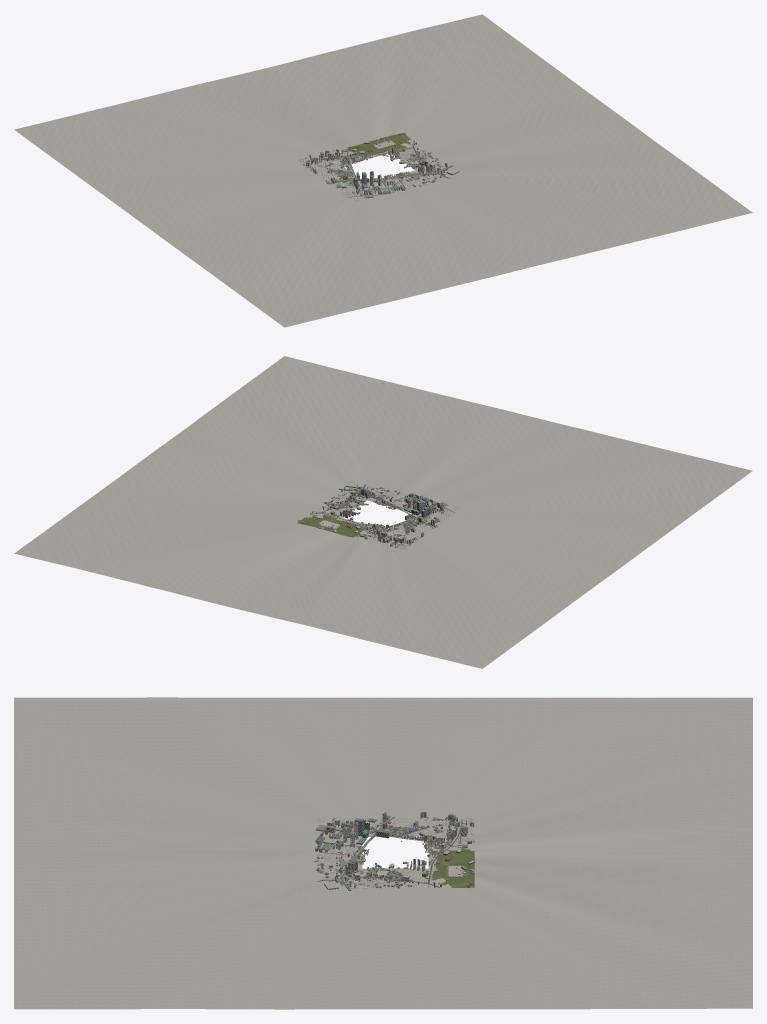
3 views of the same model, one above another, from view 1: azimuth 30°, elevation 25°; view 2: azimuth 150°, elevation 25°; view 3: azimuth 270°, elevation 25° (orthographic). The views are drawn at different scales.
Visible parts, largest first — view 1: ctx-ground, ctx-buildings, ctx-streets; view 2: ctx-ground, ctx-buildings, ctx-streets; view 3: ctx-ground, ctx-buildings, ctx-streets, ctx-far, ctx-roads.
Part boxes in pixels (bbox=[...]): ctx-ground: bbox=[14, 14, 752, 327]; ctx-buildings: bbox=[306, 132, 459, 198]; ctx-streets: bbox=[298, 135, 445, 201]; ctx-ground: bbox=[14, 356, 752, 668]; ctx-buildings: bbox=[297, 482, 447, 546]; ctx-streets: bbox=[301, 486, 457, 549]; ctx-ground: bbox=[14, 697, 752, 1009]; ctx-buildings: bbox=[314, 811, 475, 890]; ctx-streets: bbox=[316, 817, 474, 888]; ctx-far: bbox=[316, 816, 474, 888]; ctx-roads: bbox=[317, 817, 472, 887].
Size of the model in its own units: 8000 by 200 by 8000.
20 materials, 16 textured.
